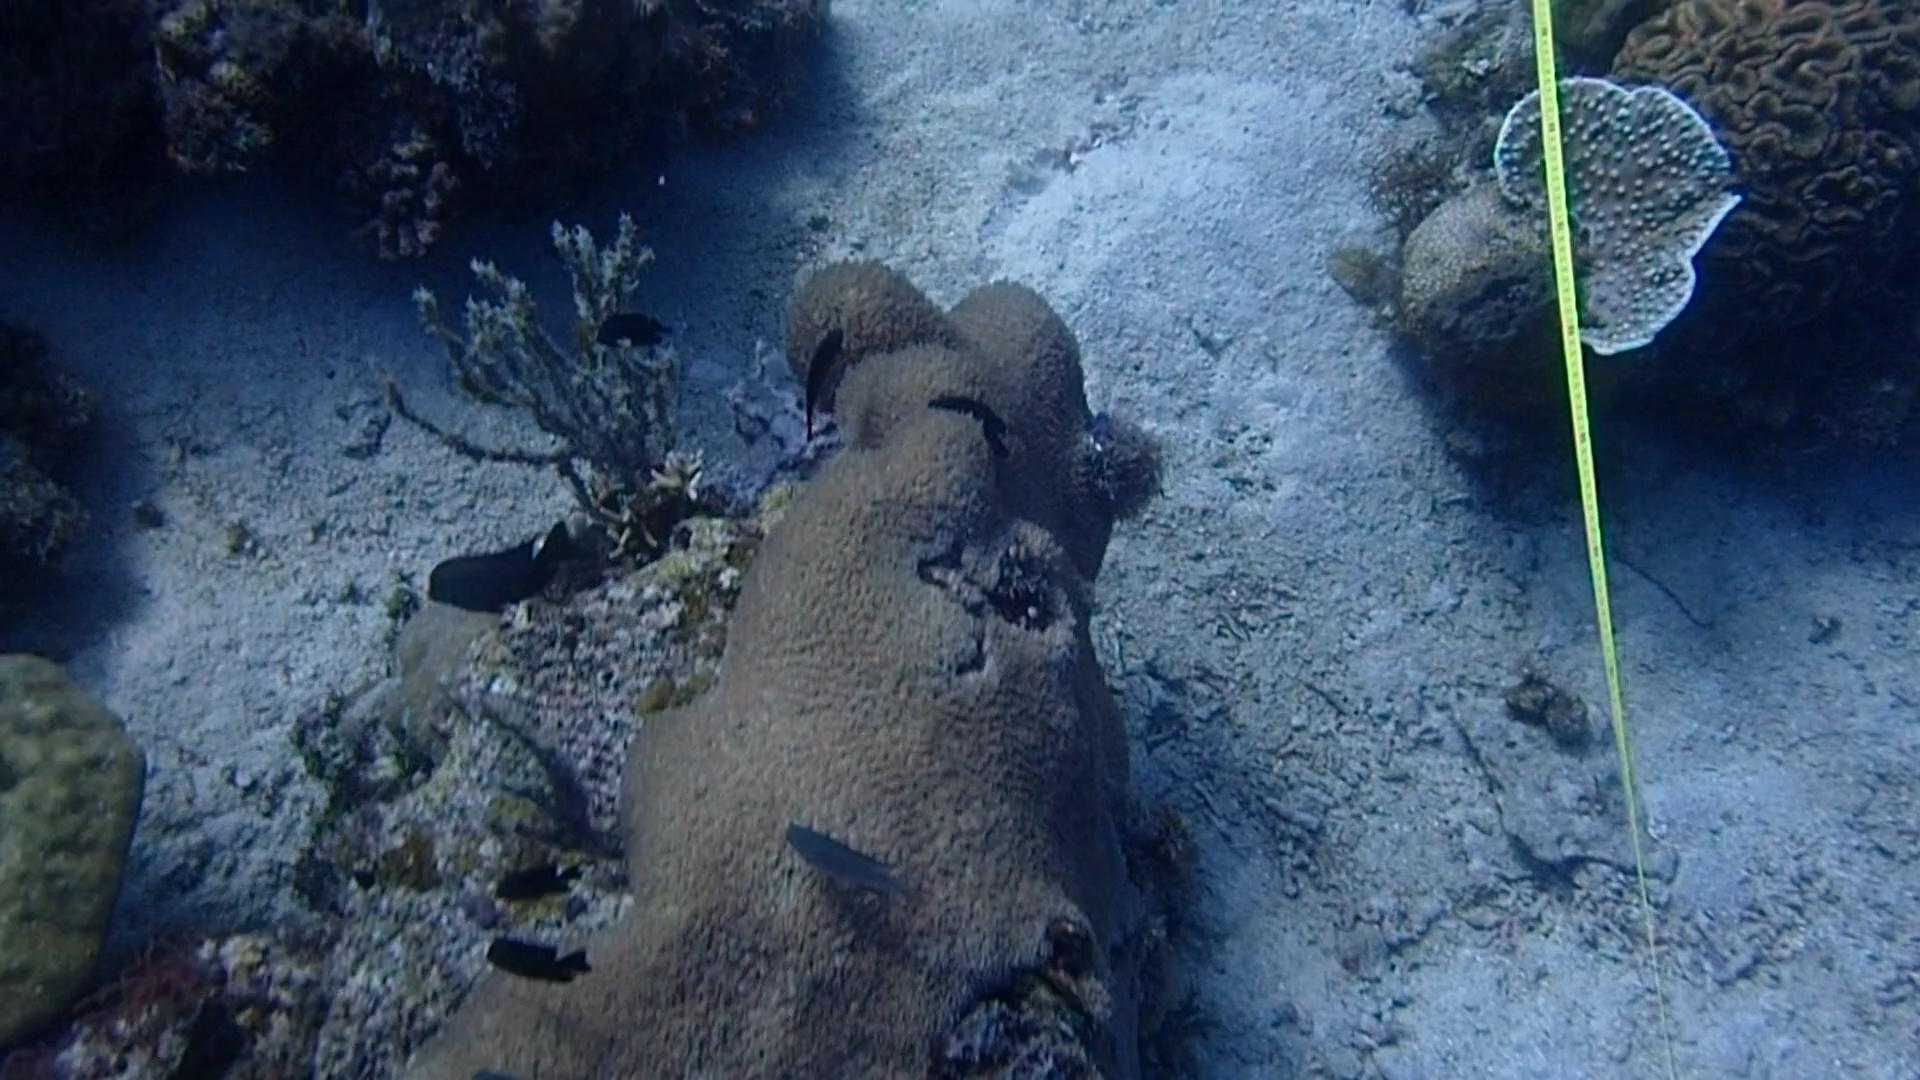Big Dark Blue Fish: (417, 518, 562, 624)
Dark Fish: (463, 923, 605, 998), (476, 839, 600, 911), (916, 384, 1022, 464), (779, 315, 860, 419), (595, 299, 675, 356)
Light Fish: (775, 816, 923, 922)
